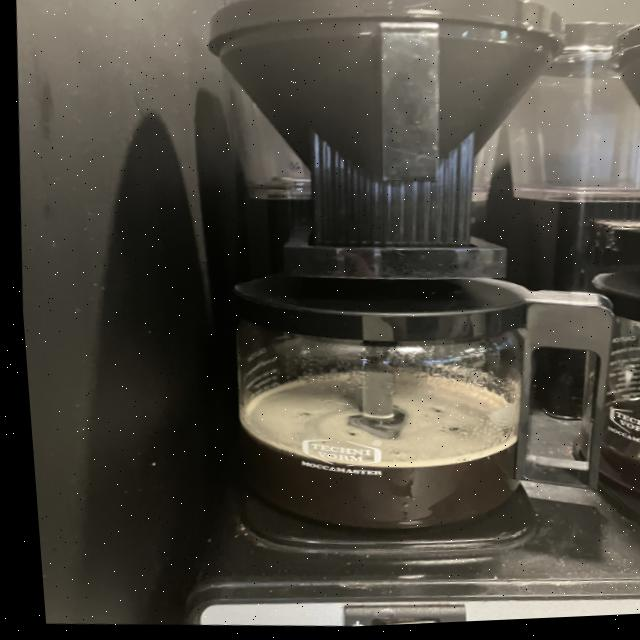coffee: (183, 267, 553, 552), (541, 274, 640, 520)
